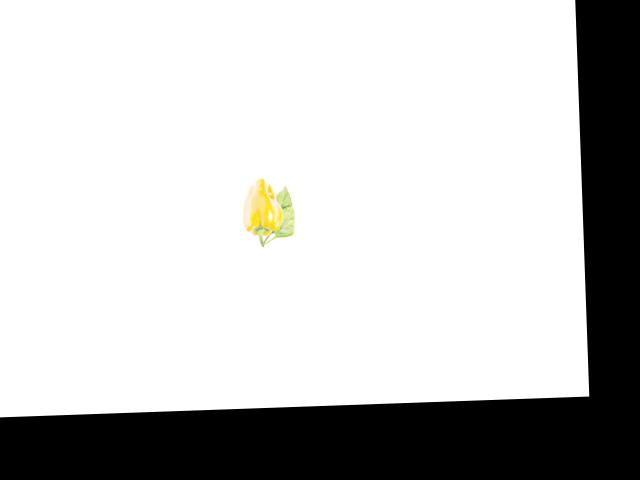bell_pepper: (238, 175, 285, 249)
